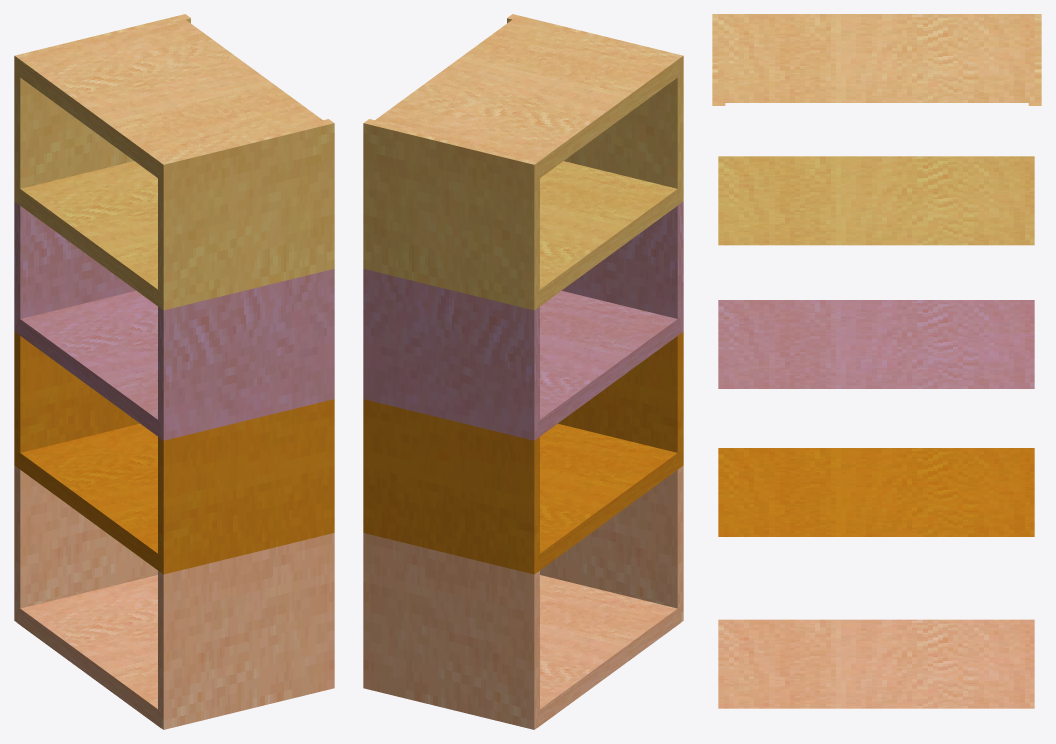
3 views of the same model, side by side, from view 1: azimuth 30°, elevation 25°; view 2: azimuth 150°, elevation 25°; view 3: azimuth 270°, elevation 25° (orthographic). The views are drawn at different scales.
Visible parts, largest first — view 1: Joint_0_Object_0; view 2: Joint_0_Object_0; view 3: Joint_0_Object_0.
Part boxes in pixels (x1,y1,x2,y2): Joint_0_Object_0: [14, 14, 334, 729]; Joint_0_Object_0: [363, 14, 683, 729]; Joint_0_Object_0: [712, 14, 1041, 708].
Size of the model in its own units: 1021 by 3228 by 1543.
Materials: 1 (1 with a texture image).
